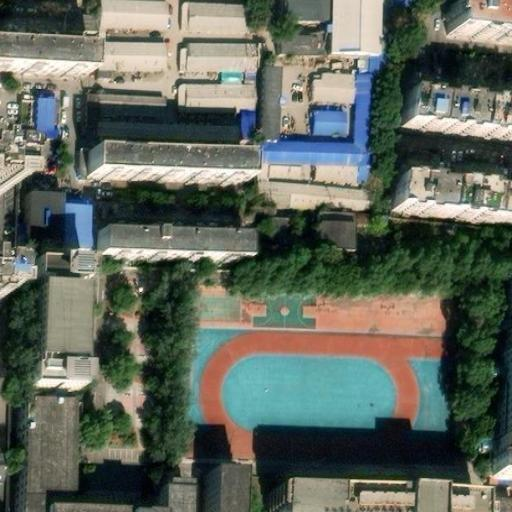building: (263, 72, 376, 166), (33, 263, 93, 390), (13, 403, 70, 512), (399, 174, 512, 222), (409, 90, 512, 138), (89, 149, 247, 180), (273, 490, 479, 512), (102, 238, 252, 265), (0, 37, 90, 74), (86, 91, 167, 132), (268, 181, 376, 211), (98, 120, 241, 141), (331, 0, 384, 54), (25, 189, 66, 248), (187, 42, 260, 73), (102, 37, 170, 70), (180, 83, 258, 111), (187, 1, 252, 33), (100, 0, 168, 30), (318, 207, 359, 250), (284, 19, 331, 53), (64, 202, 96, 249), (264, 56, 282, 139), (207, 473, 244, 512), (311, 71, 355, 103), (34, 96, 59, 140), (259, 211, 291, 243), (500, 355, 512, 438), (285, 0, 332, 20), (315, 164, 369, 181), (312, 108, 347, 133), (161, 486, 190, 512), (51, 9, 85, 28), (492, 444, 512, 476), (355, 54, 387, 73), (490, 485, 511, 511), (221, 71, 259, 85), (241, 110, 258, 141), (79, 149, 89, 175)
